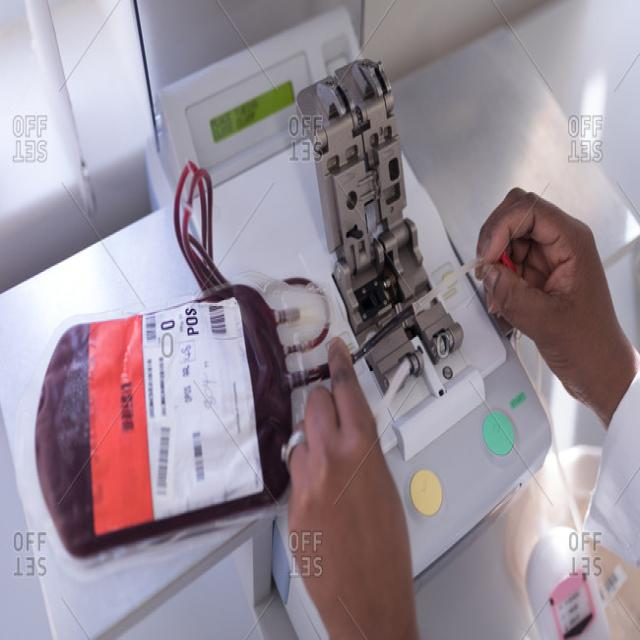B3: (16, 295, 324, 564)
